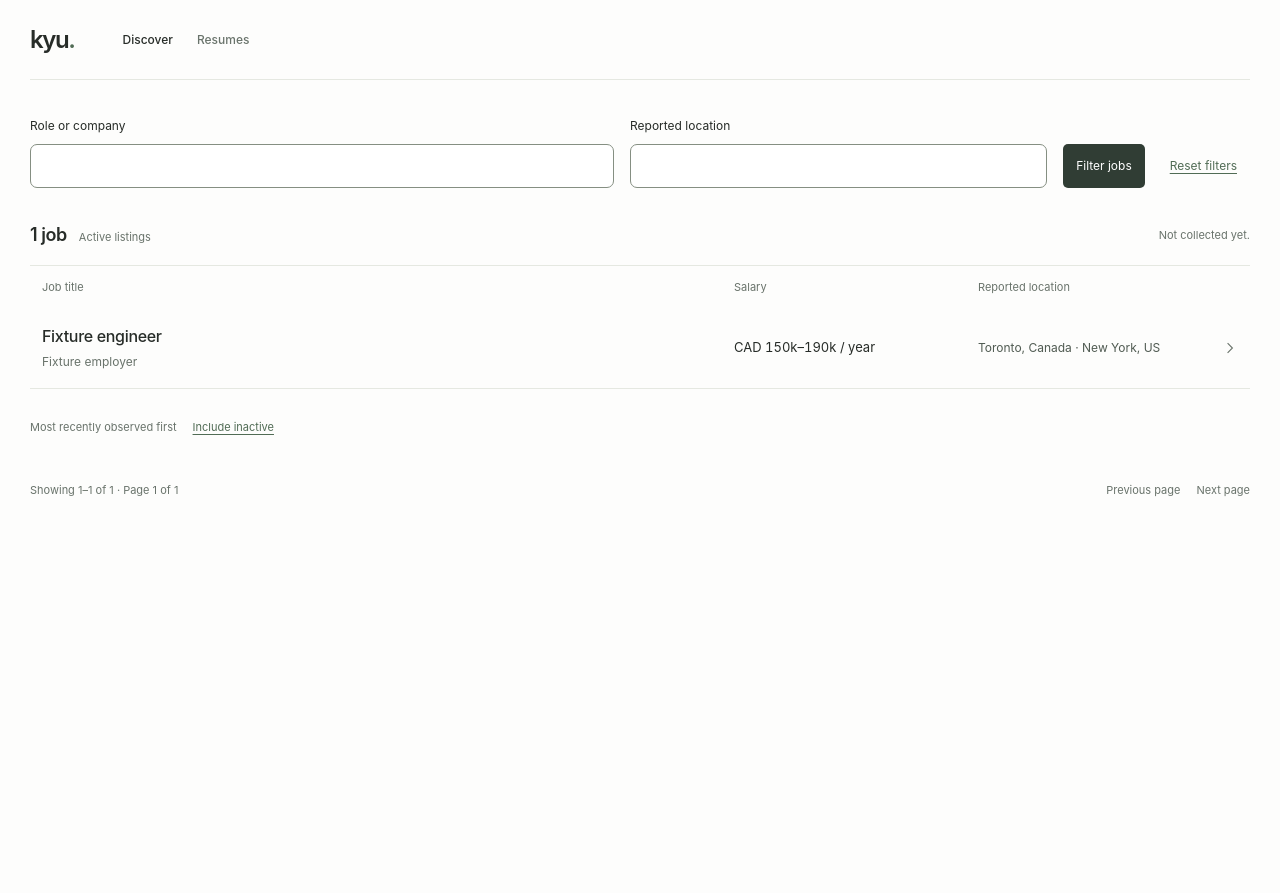
Test: JobCatalog › shows company with title, salary and location before expanding the native row
Later steps or results of the test are not shown.
Expected: the text "Fixture employer" is shown, [42, 354, 137, 369]
Expected: the text "Open application" is not shown
Click the heading that starts with "Fixture engineer" at [102, 336], box [42, 326, 1238, 369]
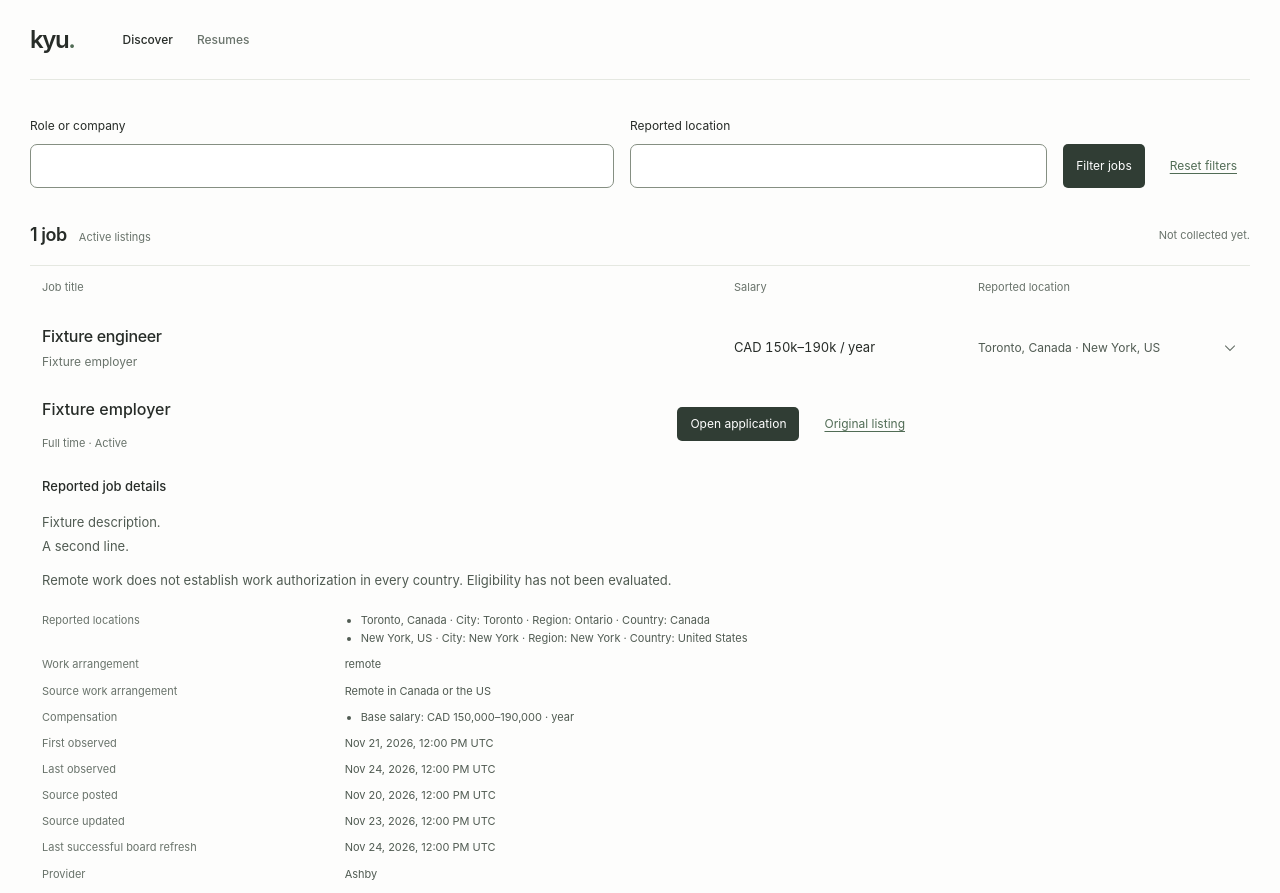
Expected: the heading "Fixture employer" is shown, [42, 396, 171, 422]
Expected: the text "Remote work does not establish work authorization" is shown, [42, 572, 672, 588]
Expected: the text "First observed" is shown, [42, 736, 117, 750]
